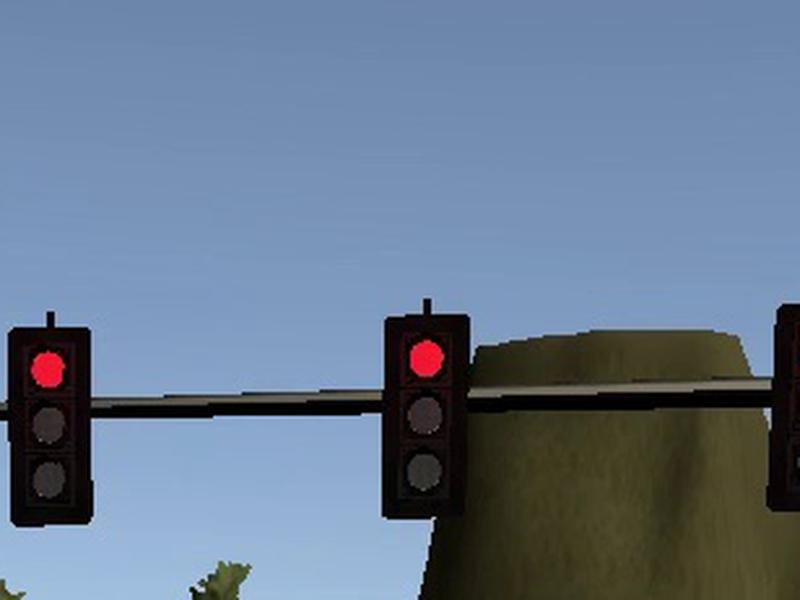Red: (10, 328, 91, 526), (385, 315, 464, 517)
